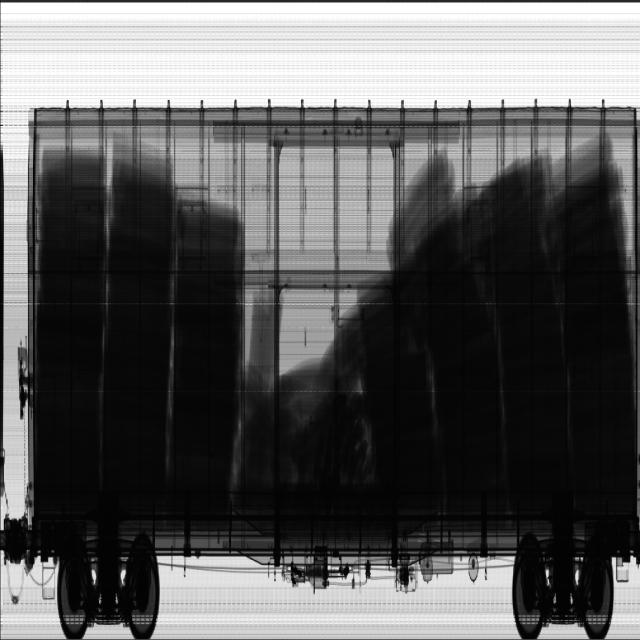fabrics: (213, 278, 365, 497)
